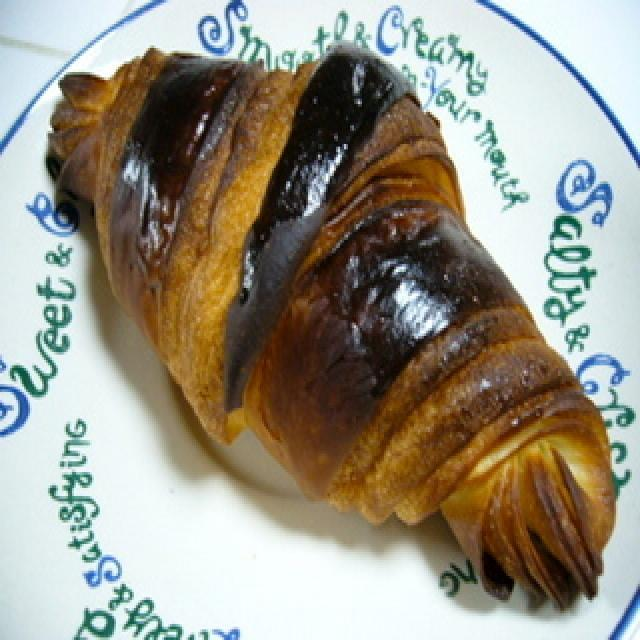Croissant: (42, 39, 614, 614)
